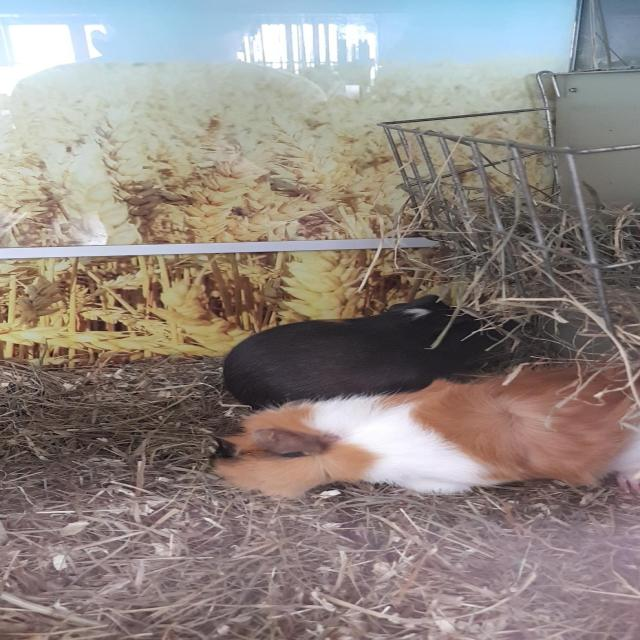guinea pig: (200, 362, 639, 502), (217, 294, 506, 406)
